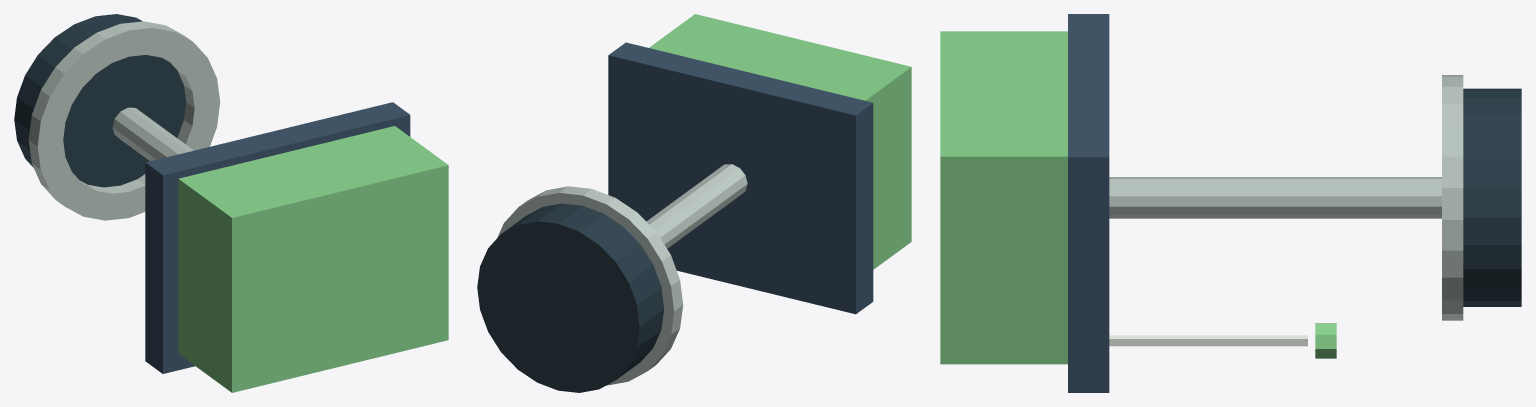
The model's file is table_lamp.glb.
3 renders of one model, left to right at view 1: azimuth 30°, elevation 25°; view 2: azimuth 150°, elevation 25°; view 3: azimuth 270°, elevation 25°, orthographic. The views are drawn at different scales.
Visible parts, largest first — view 1: table_lamp; view 2: table_lamp; view 3: table_lamp.
Boxes of the visible parts, <box> form: table_lamp: <box>14,14,448,392</box>; table_lamp: <box>477,14,911,392</box>; table_lamp: <box>940,14,1521,392</box>.
Size of the model in its own units: 0.28 by 0.2148 by 0.48.
